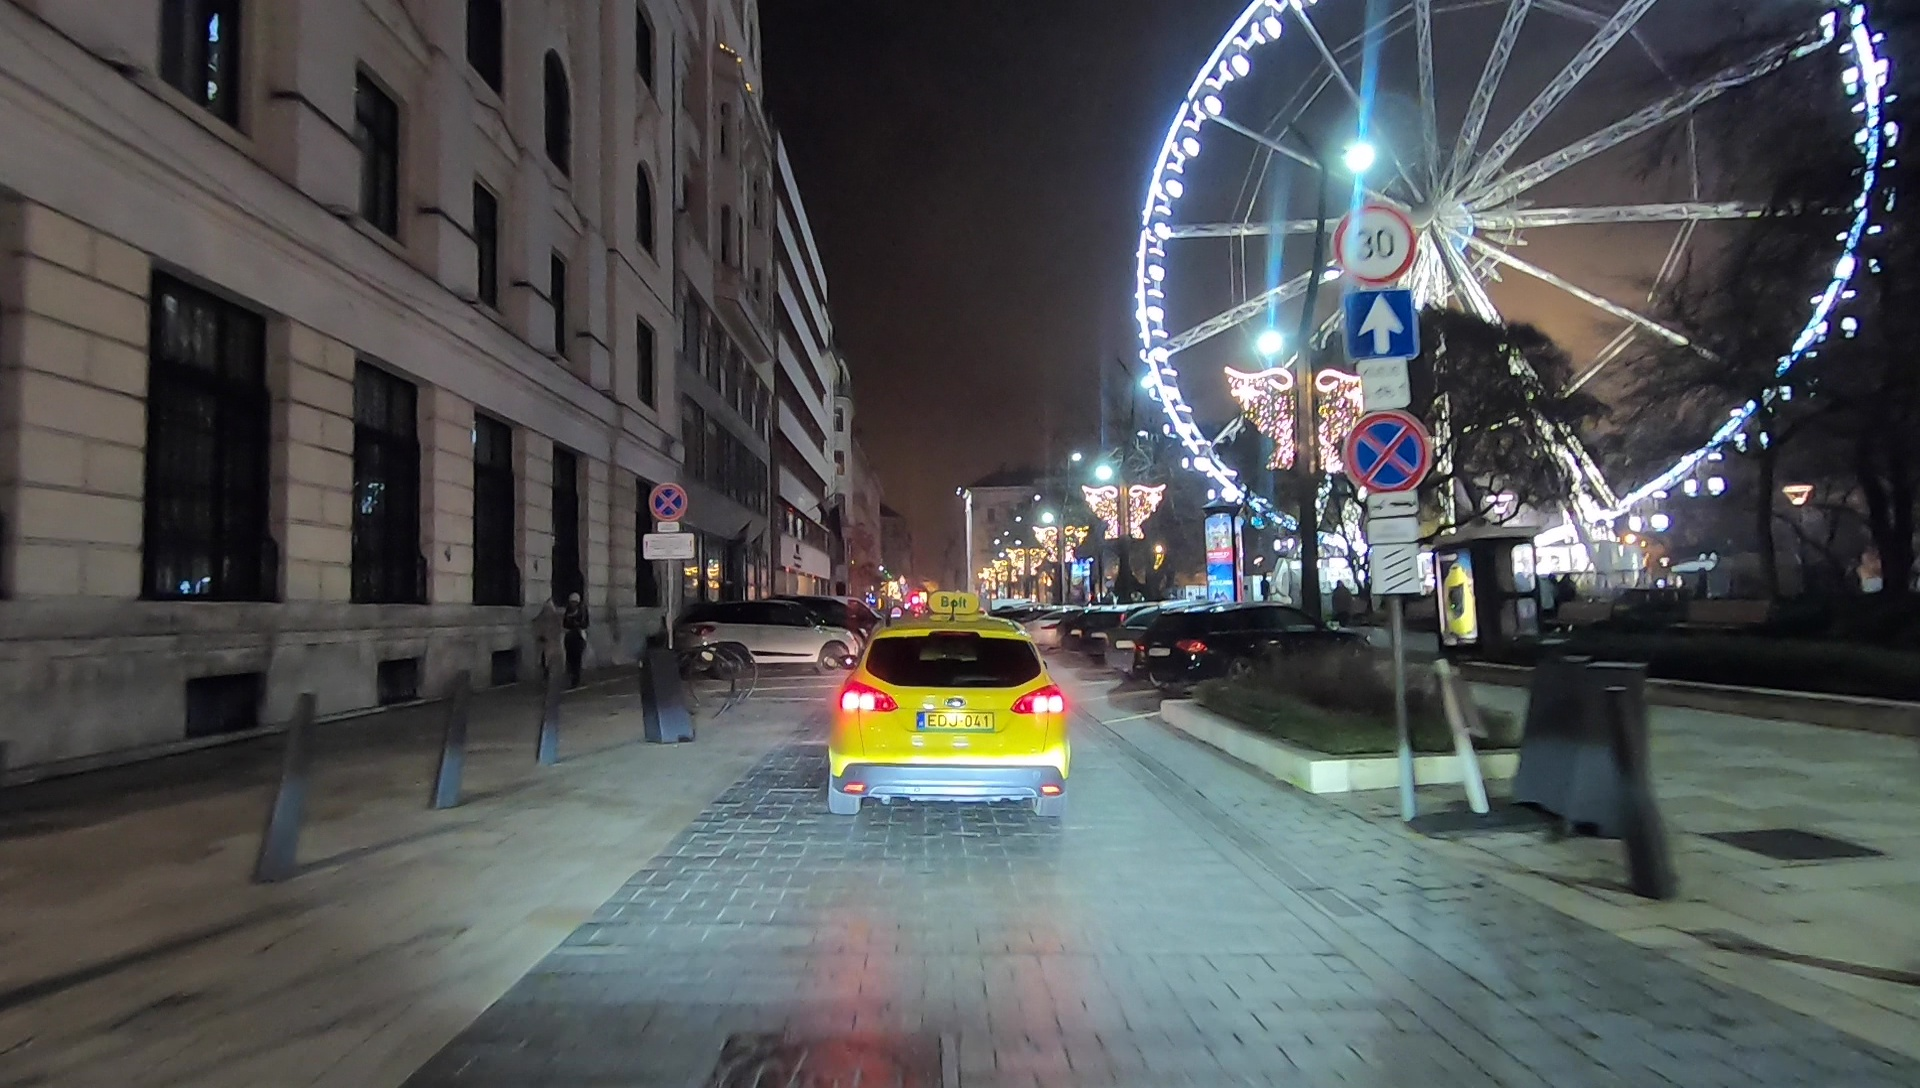person: (532, 599, 564, 686), (564, 587, 586, 682)
